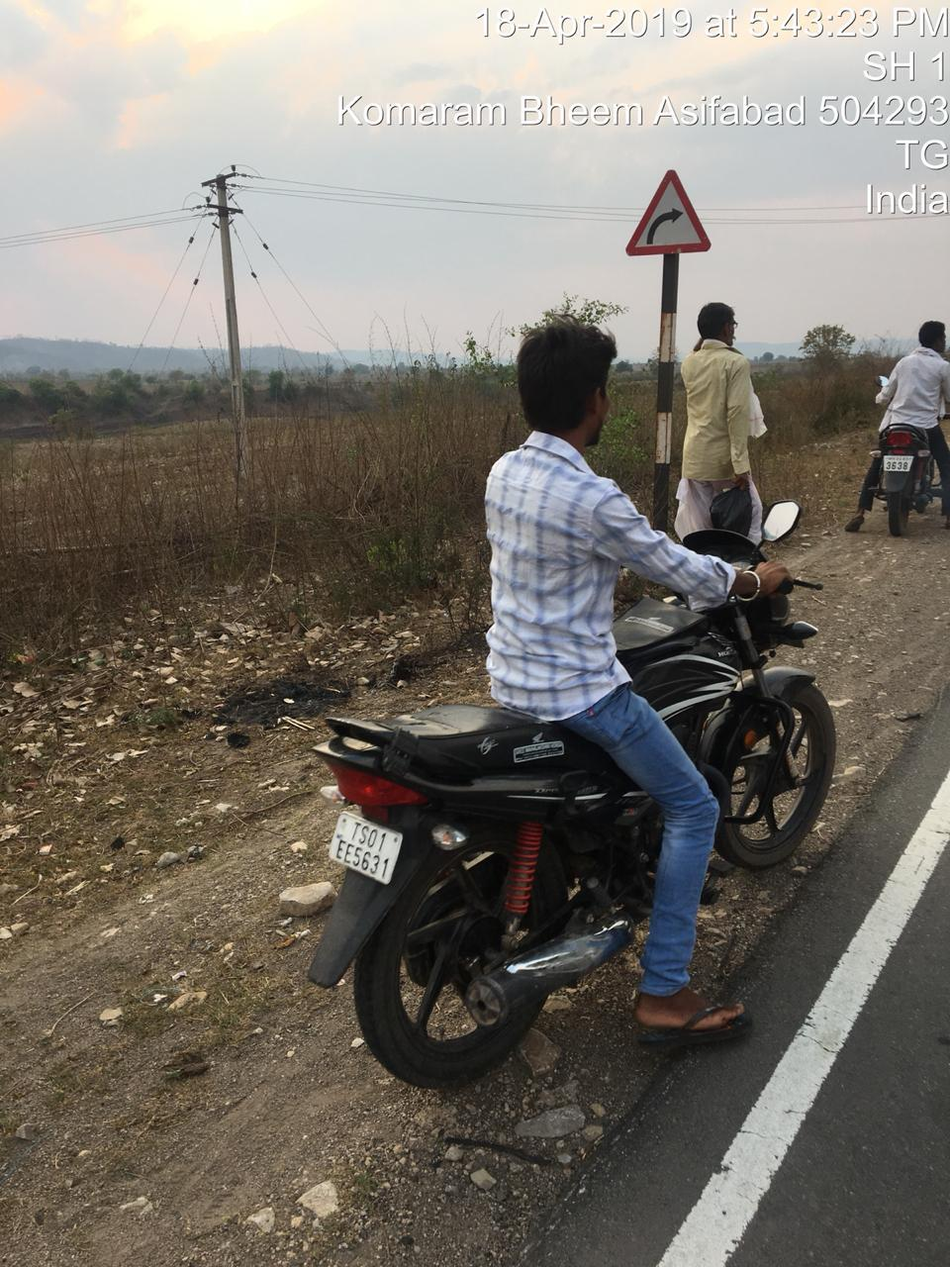plate: (310, 802, 417, 898), (873, 445, 930, 483)
